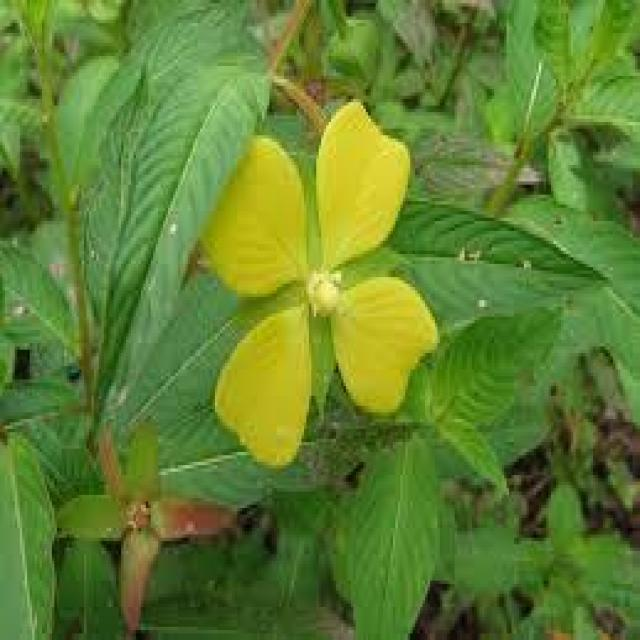organic waste: (182, 104, 454, 477)
